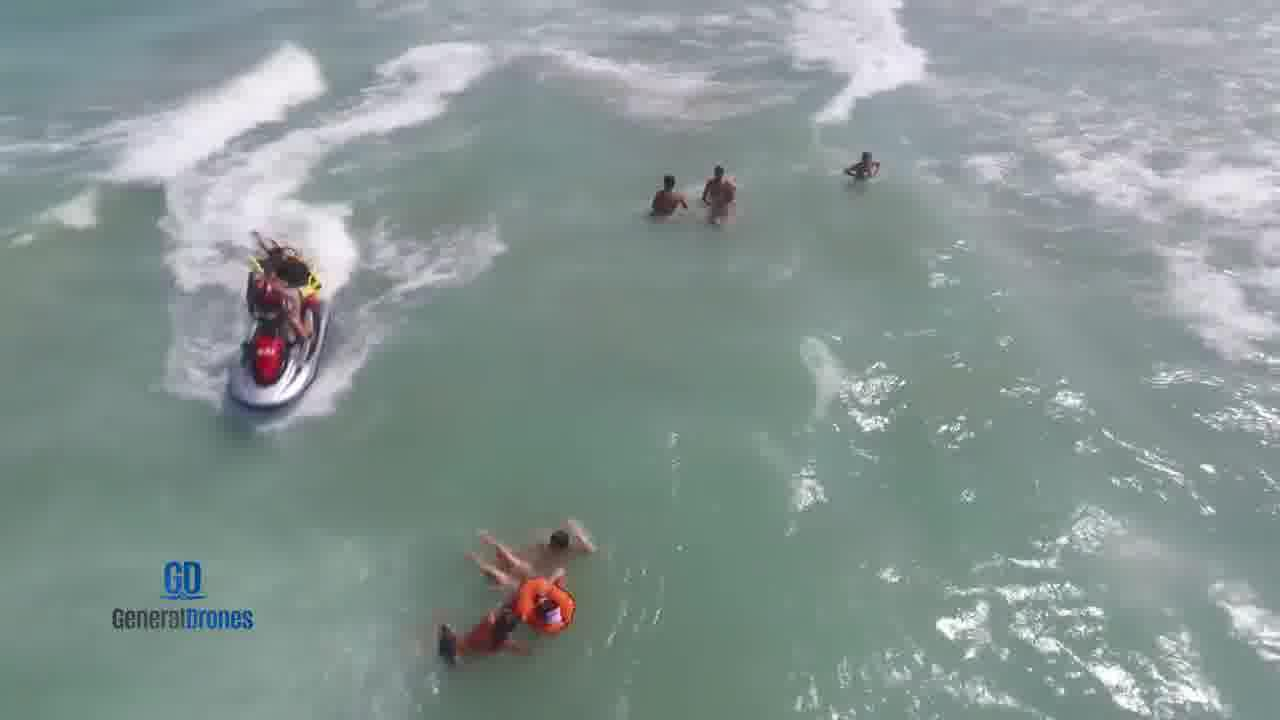human: (461, 523, 579, 630), (433, 598, 527, 659), (533, 501, 612, 559), (835, 144, 903, 188), (644, 166, 697, 222), (701, 156, 741, 210)
